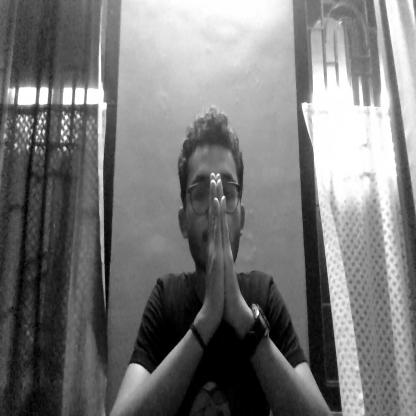Normal: (171, 112, 243, 286)
